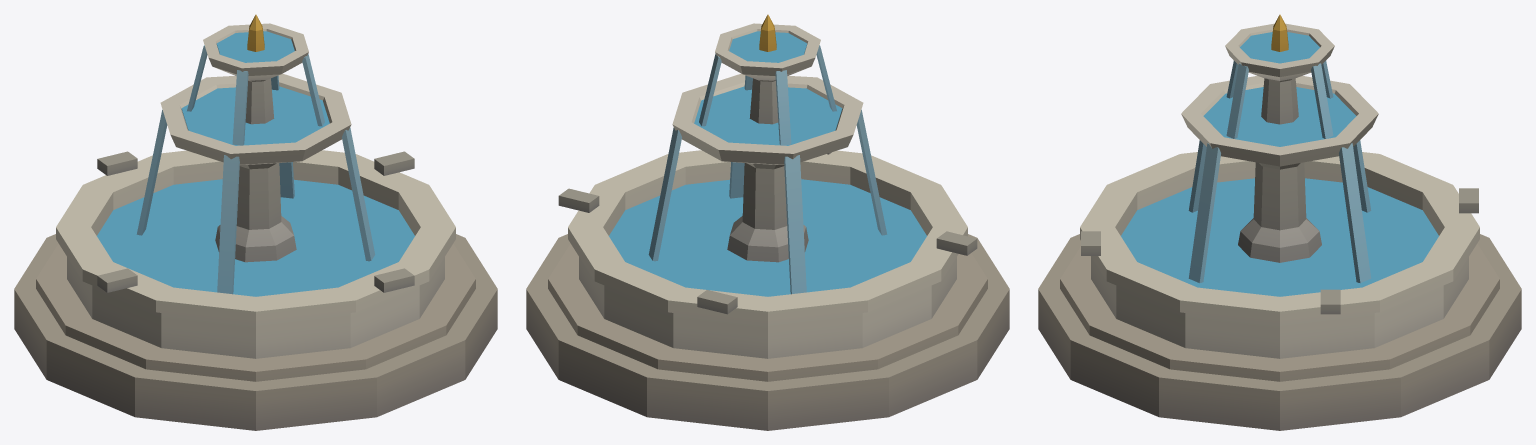
The model's file is fountain.glb.
The picture shows the model from 3 angles, left to right: view 1: azimuth 30°, elevation 25°; view 2: azimuth 150°, elevation 25°; view 3: azimuth 270°, elevation 25°; orthographic projection.
Visible parts, largest first — view 1: fountain; view 2: fountain; view 3: fountain.
Part boxes in pixels (x1,y1,x2,y2): fountain: (14,14,497,430); fountain: (526,14,1009,430); fountain: (1038,14,1521,430).
Size of the model in its own units: 22 by 15.8 by 22.
1 material, 1 textured.
